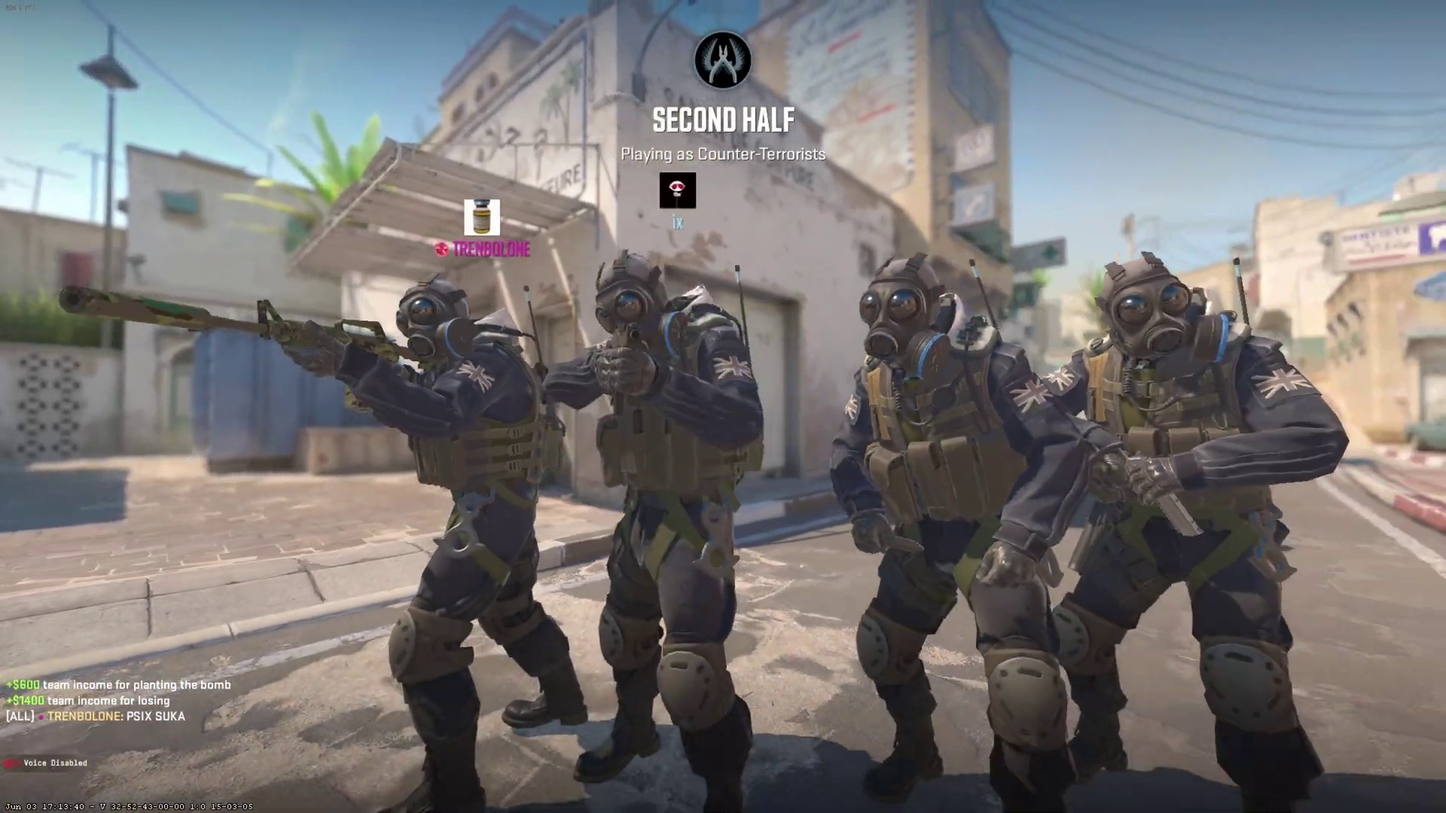CT: (1073, 258, 1341, 811), (833, 256, 1065, 813), (568, 253, 760, 808), (378, 276, 563, 810)
